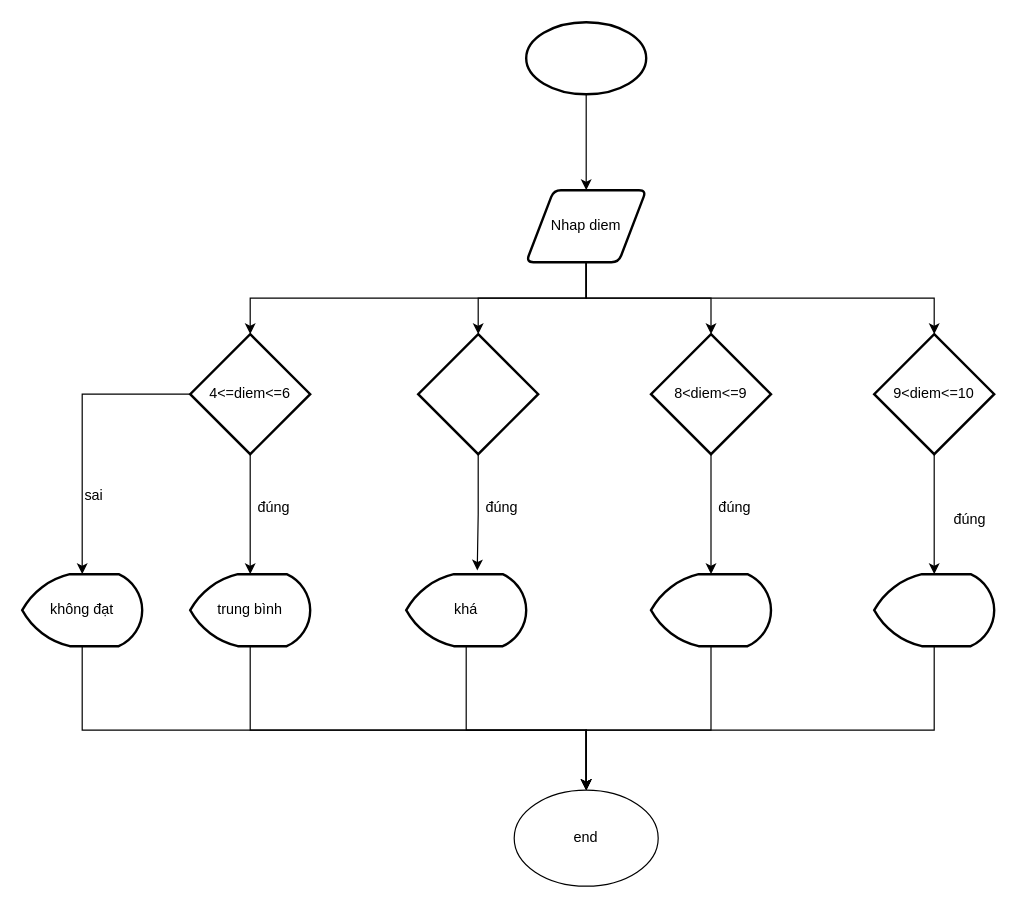
Image size: 1026x907. Some labels were removed from this diagram. The shapes that lost their labels are listed below. From the top down, each one's box as (x1, y1, x2, y2) in pixels, then its label:
(524, 20, 647, 95): Start
(416, 332, 539, 455): 6<diem<=8
(649, 572, 772, 647): giỏi
(872, 572, 995, 647): xuất sắc
